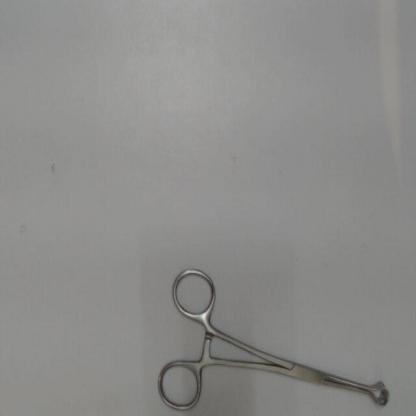Babcock Tissue Forceps: (151, 258, 394, 414)
